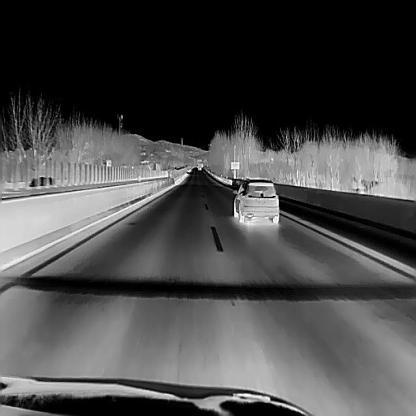car: (232, 177, 279, 224), (28, 176, 53, 186), (197, 161, 201, 169)
